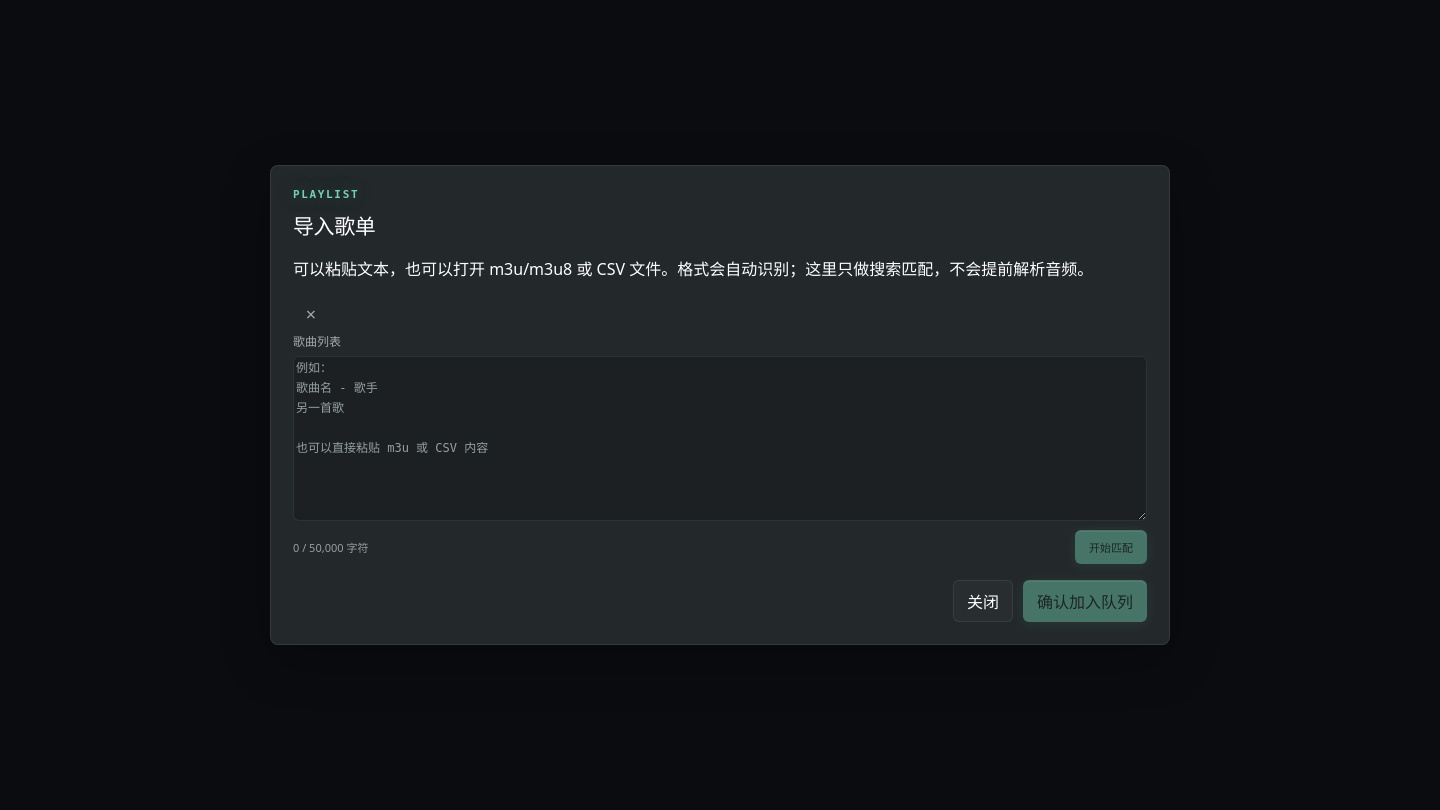
Test case: TextPlaylistImportDialog › keeps one live region while matching so announcements do not collide
This screenshot has width=1440, height=810.
Type "一首歌" into the text box labelled "歌曲列表" at (720, 438), box [293,356,1147,521]
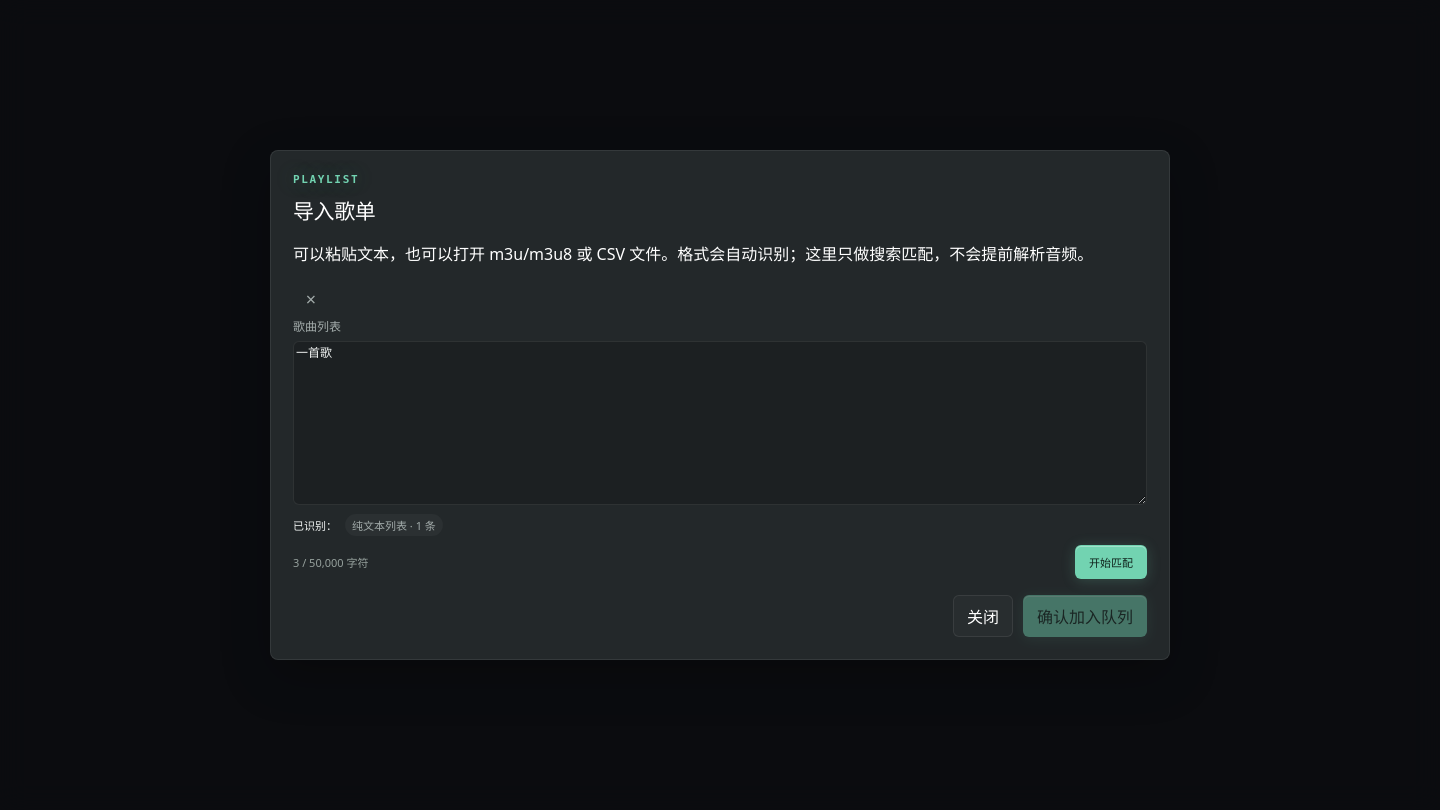
Expected: the element named "已识别的歌单格式" is shown, [293,514,443,536]
Click the button "开始匹配" at (1111, 562), box [1075,545,1147,579]
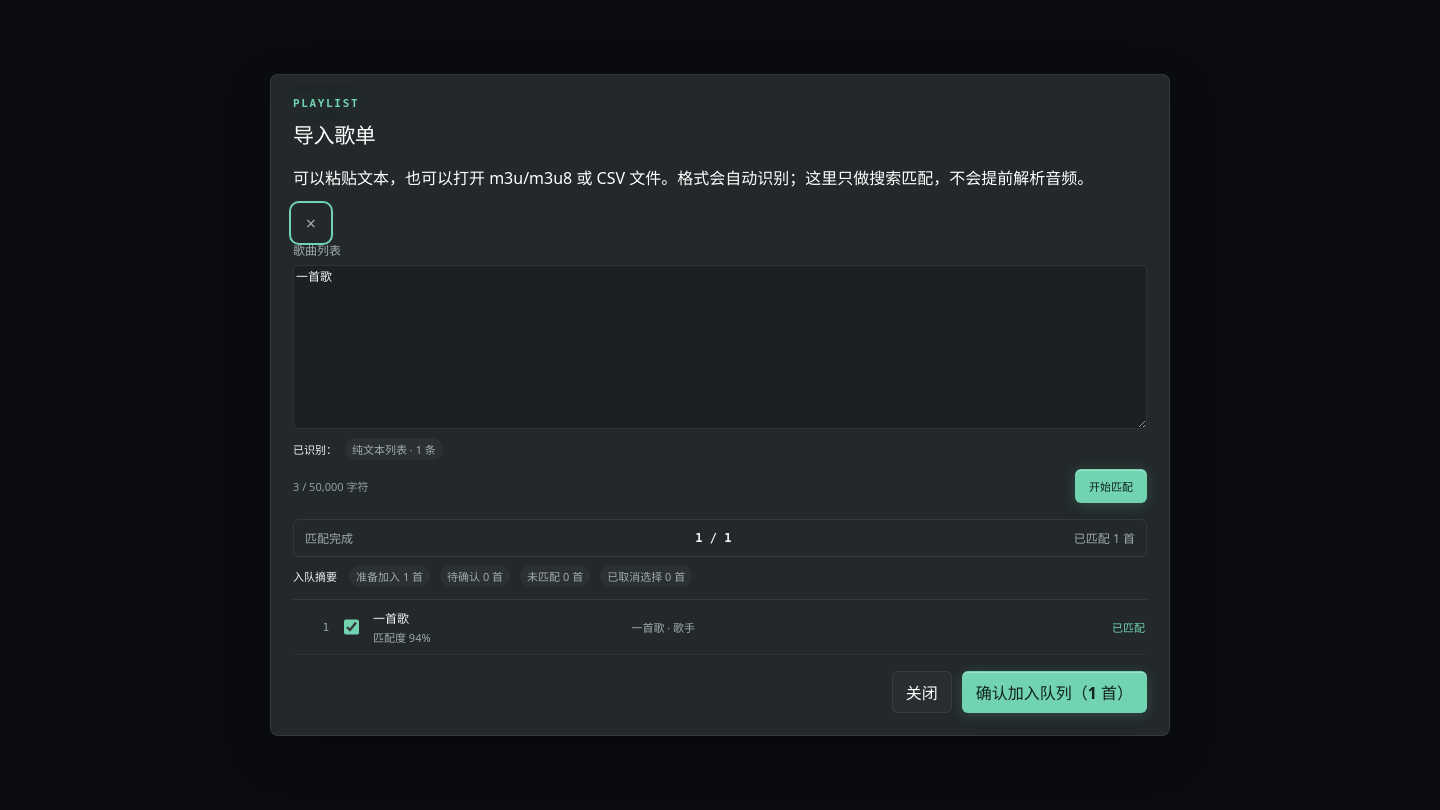
Expected: the text "匹配完成" is shown, [305,529,353,547]
Expected: the number of messages is 1, [293,519,1147,557]
